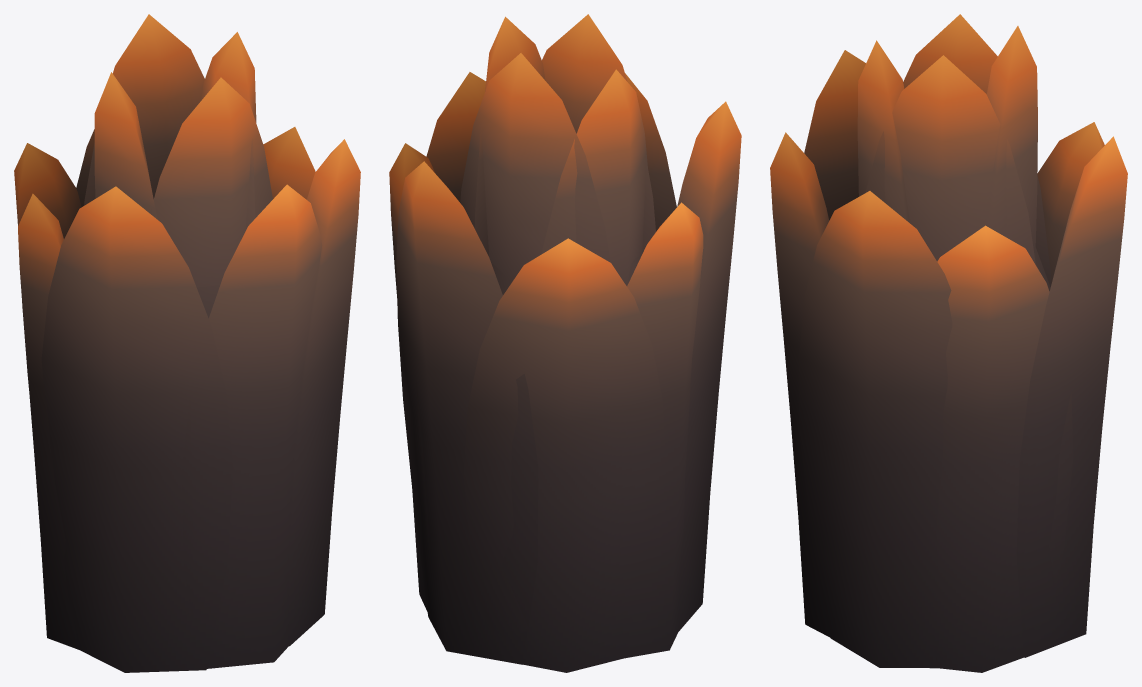
The model's file is ScorchGrassA.fbx.
The picture shows the model from 3 angles, left to right: view 1: azimuth 30°, elevation 25°; view 2: azimuth 150°, elevation 25°; view 3: azimuth 270°, elevation 25°; orthographic projection. The views are drawn at different scales.
Parts seen in each view (by area): view 1: ScorchGrassA; view 2: ScorchGrassA; view 3: ScorchGrassA.
Boxes of the visible parts, x1,y1,x2,y2 form: ScorchGrassA: [14, 14, 360, 672]; ScorchGrassA: [389, 14, 741, 672]; ScorchGrassA: [770, 14, 1127, 672].
Bounding box in the file's own units: 0.799 × 1.49 × 0.822.
1 material, 1 textured.
